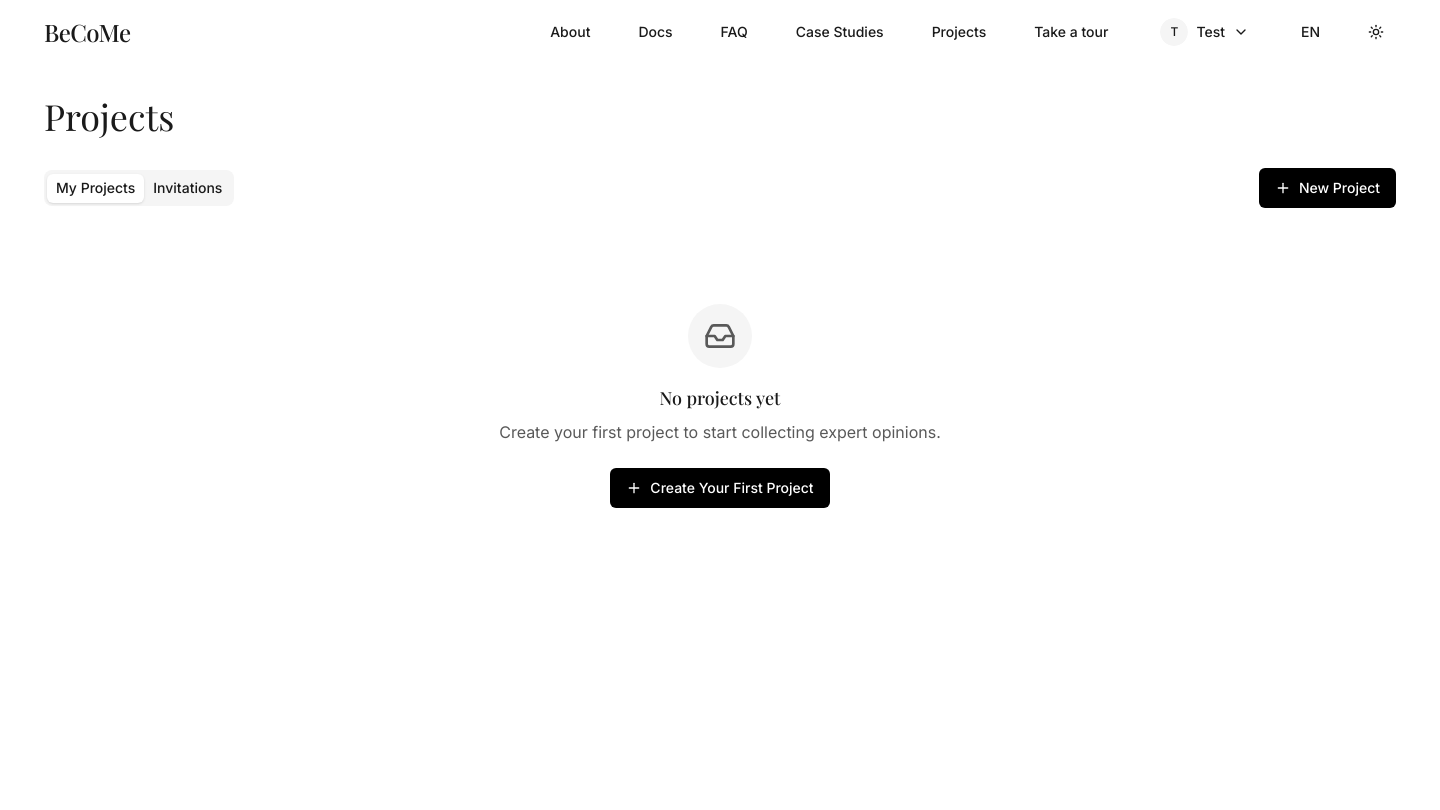
Test: Projects › Create Project › opens create project modal when clicking New Project
Click the button "New Project": [1327, 188] box [1259,168,1396,208]
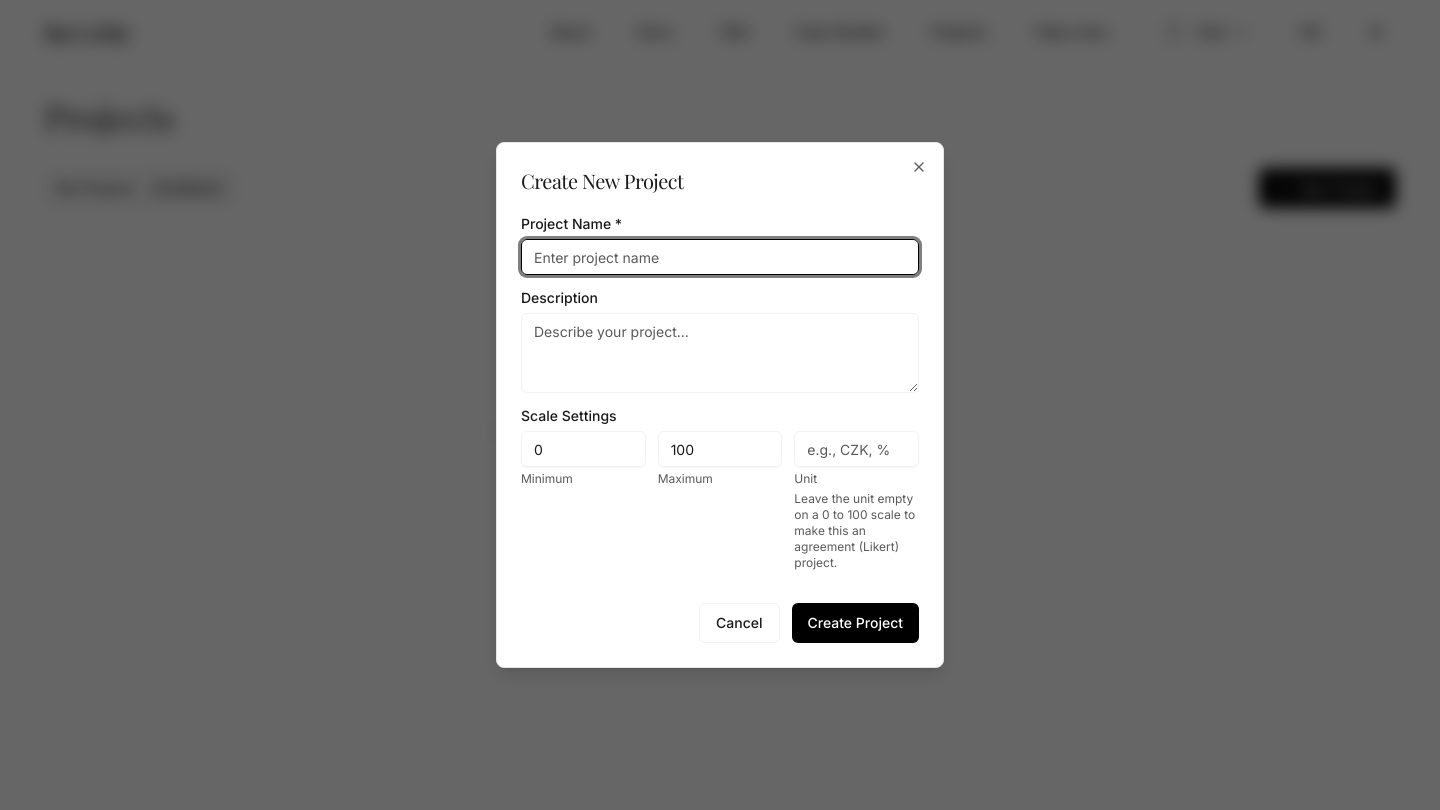
Expected: the dialog is shown, [496,142,944,668]
